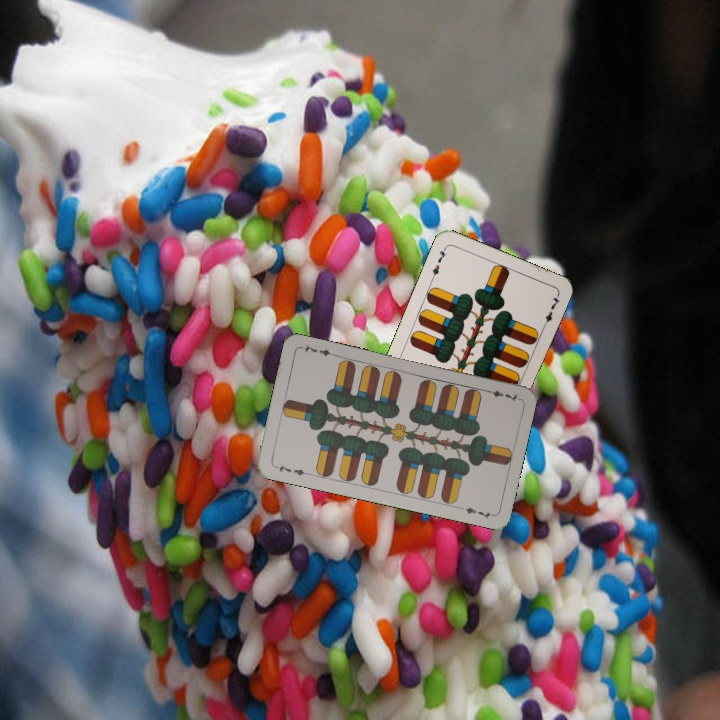E7: (427, 243, 449, 282), (481, 385, 521, 404), (271, 461, 311, 478)
